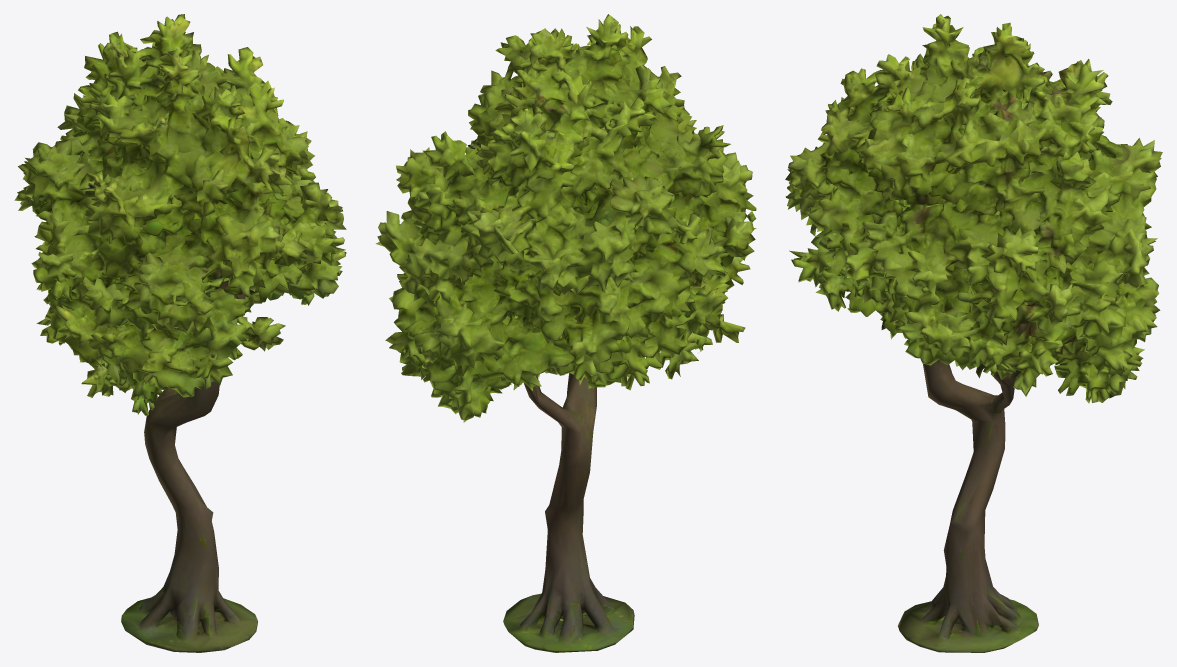
Rendered from arvore_nova1.glb.
The picture shows the model from 3 angles, left to right: view 1: azimuth 30°, elevation 25°; view 2: azimuth 150°, elevation 25°; view 3: azimuth 270°, elevation 25°; orthographic projection.
Visible parts, largest first — view 1: mesh_0; view 2: mesh_0; view 3: mesh_0.
Part boxes in pixels (x1,y1,x2,y2): mesh_0: [14, 14, 346, 652]; mesh_0: [375, 14, 756, 652]; mesh_0: [785, 14, 1162, 652].
Bounding box in the file's own units: 1.06 × 2.01 × 1.14.
Materials: 1 (1 with a texture image).
